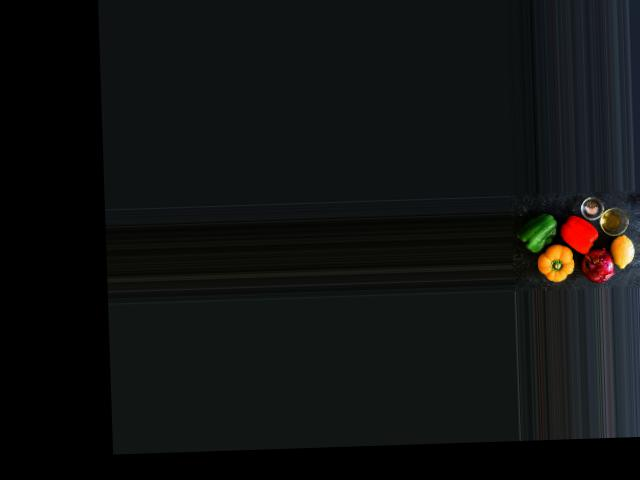bell_pepper: (560, 213, 598, 255)
